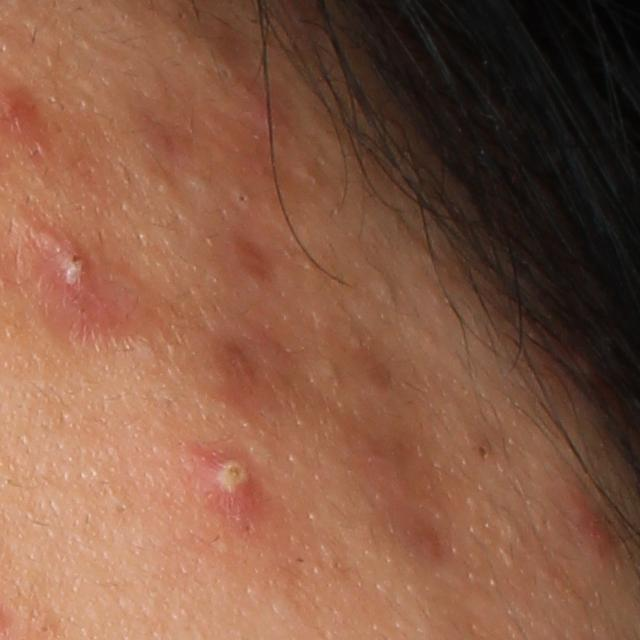papule: (553, 485, 616, 551), (45, 235, 92, 301)
pustule: (203, 446, 268, 518)
